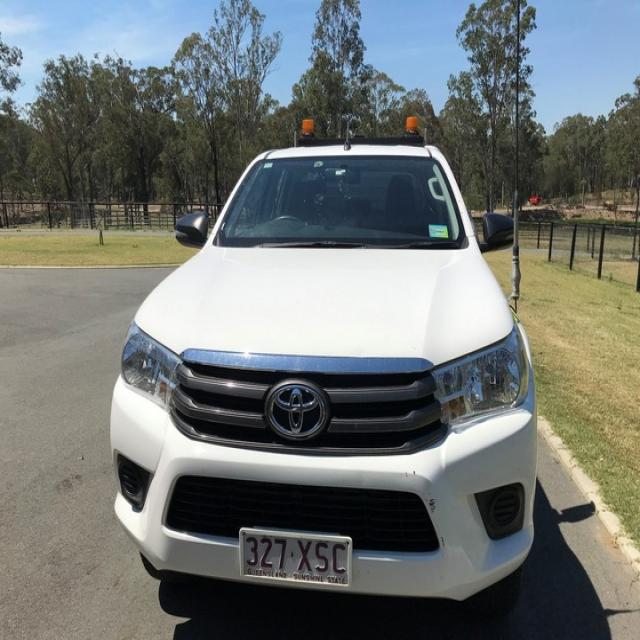light_vehicle: (102, 122, 543, 637)
